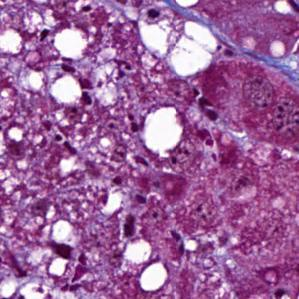ballooning: (135, 7, 221, 82)
